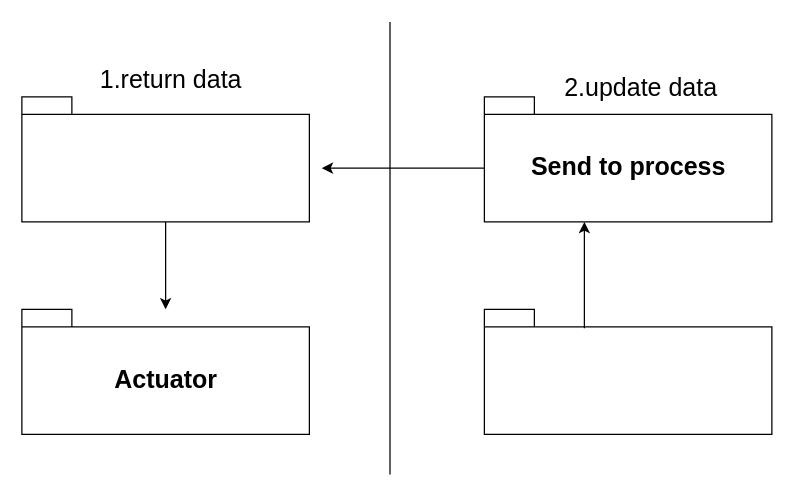
Image size: 794x496. Some labels were removed from this diagram. The shapes that lost their labels are listed below. From the top down, each one's centre as x and y in pixels, then its label:
At point (165, 159): "Go to waitlist".
At point (627, 371): "Post data".
